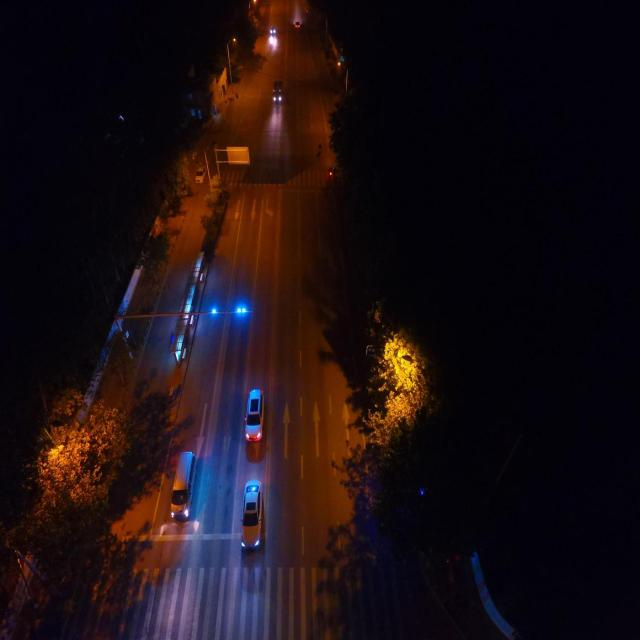car: (170, 450, 196, 522), (240, 479, 262, 550), (244, 388, 264, 442)
tree: (2, 381, 195, 638)
